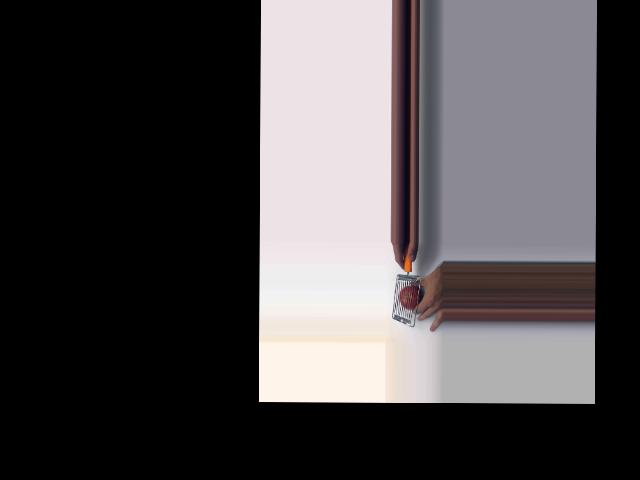tomato: (399, 284, 421, 309)
